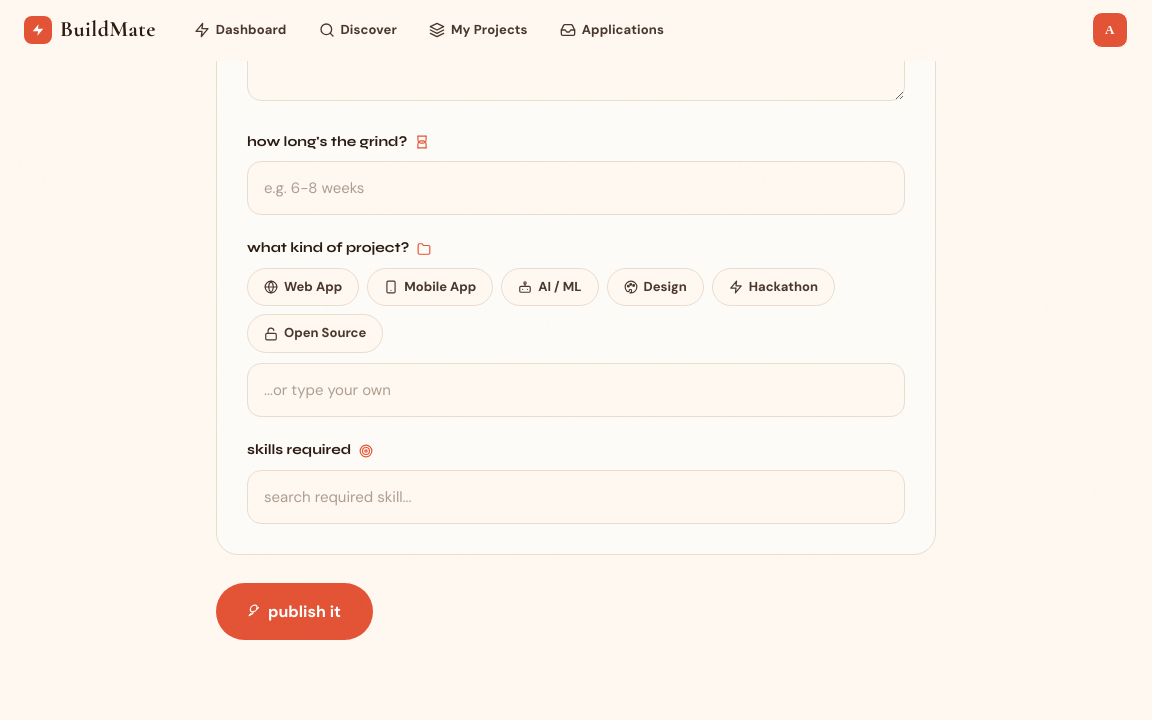
Test: CreateProject - Creation Mode › handles removing a selected skill
The image size is (1152, 720).
(page scrolled)
Type "React" into the field with placeholder "search required skill..." at (576, 497), box x1=247 y1=470 x2=905 y2=524
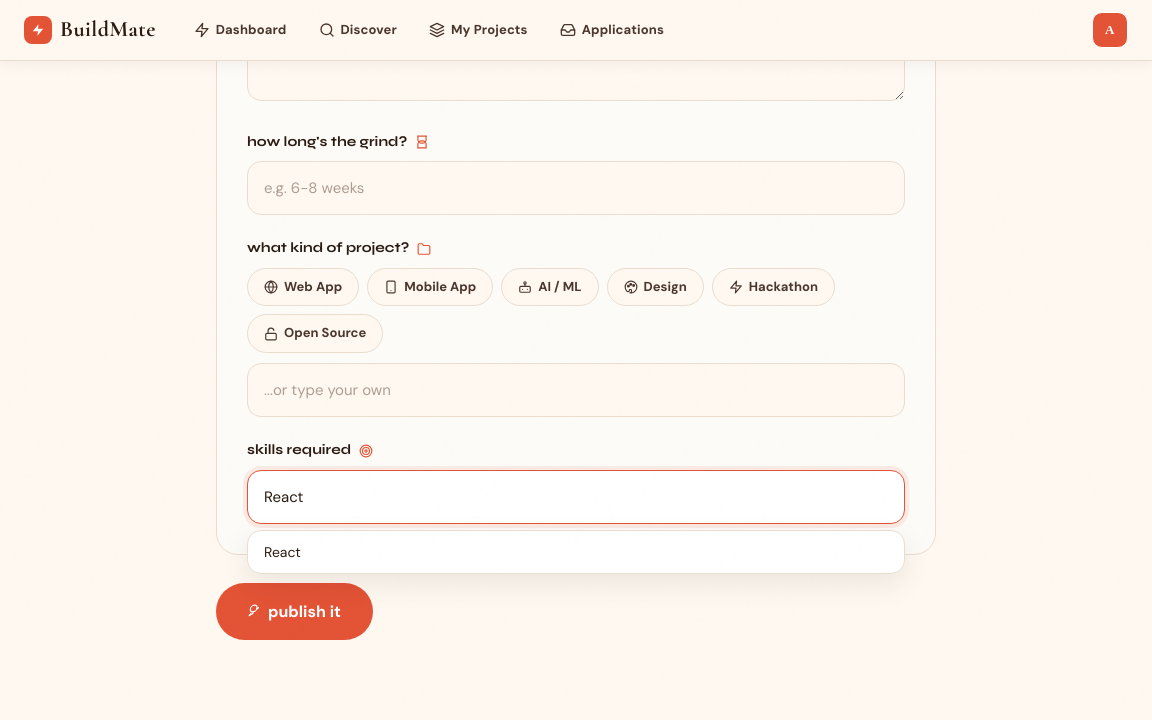
Click the text "React" at (282, 552), box x1=264 y1=543 x2=301 y2=561
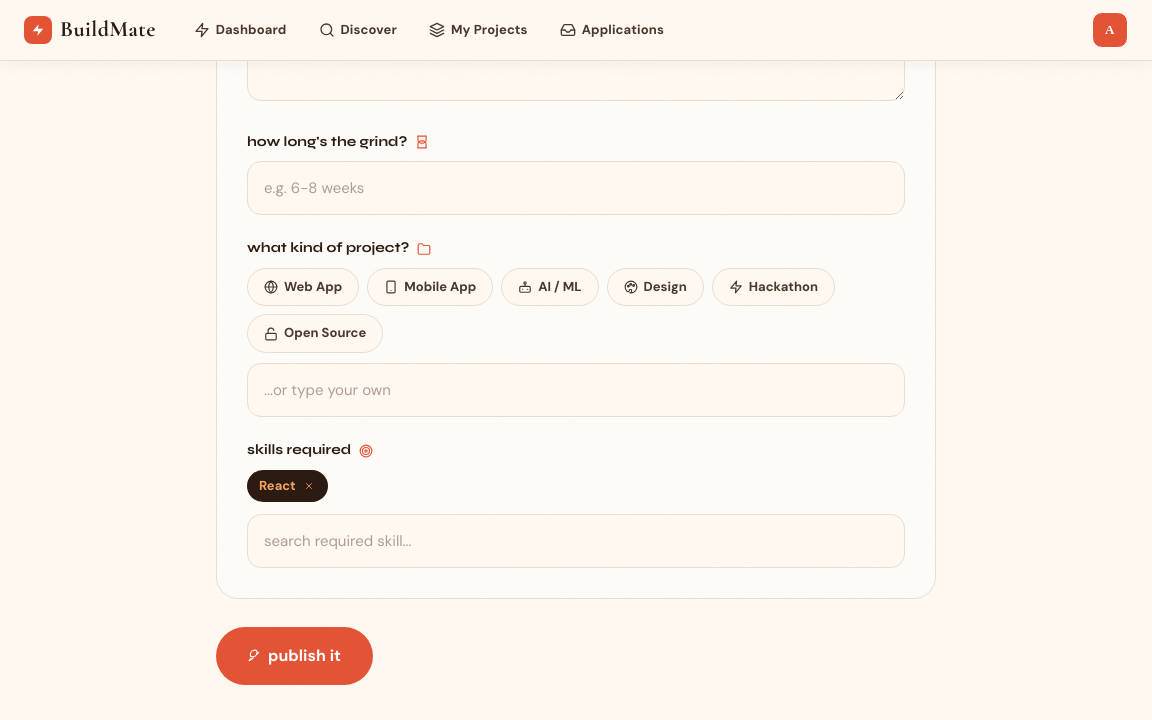
expect the text "React" is shown: met, box x1=247 y1=470 x2=328 y2=502
Click the 8th button at (309, 486), box x1=302 y1=481 x2=316 y2=491
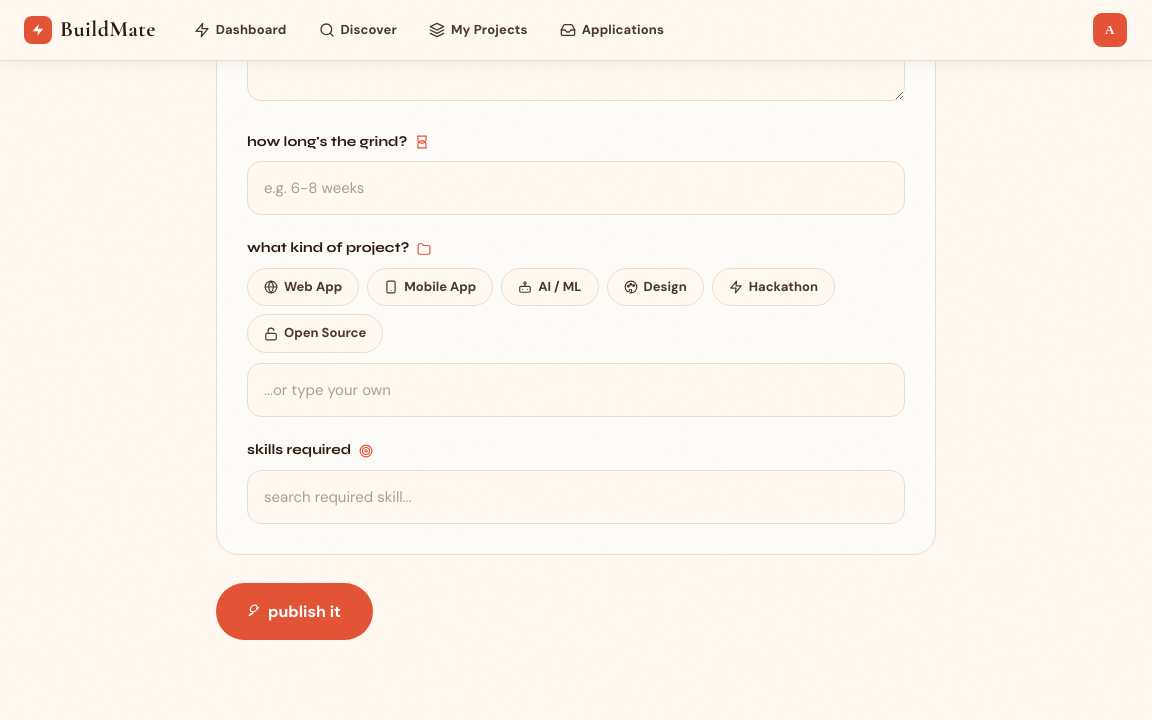
expect the text "React" is gone: met
